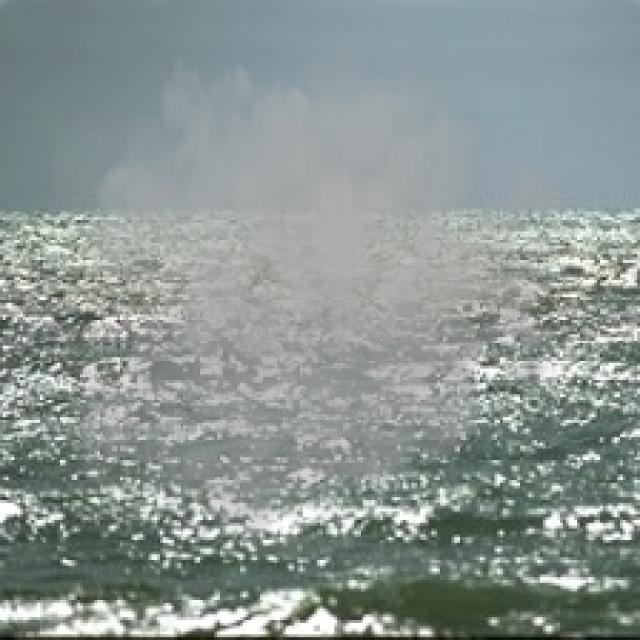Smoke: (54, 20, 586, 557)
